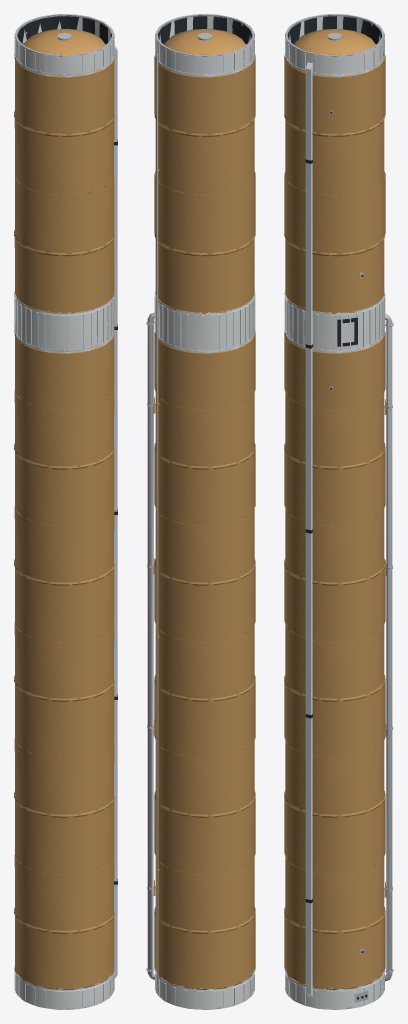
The model's file is tank_s1_l_hydrolox.glb.
The picture shows the model from 3 angles, left to right: view 1: azimuth 90°, elevation 25°; view 2: azimuth 150°, elevation 25°; view 3: azimuth 330°, elevation 25°; orthographic projection.
Parts seen in each view (by area): view 1: tank_s1_l_hydrolox_mesh; view 2: tank_s1_l_hydrolox_mesh; view 3: tank_s1_l_hydrolox_mesh.
Part boxes in pixels (bbox=[...]): tank_s1_l_hydrolox_mesh: bbox=[14, 14, 117, 1009]; tank_s1_l_hydrolox_mesh: bbox=[146, 14, 255, 1009]; tank_s1_l_hydrolox_mesh: bbox=[284, 14, 393, 1009].
Bounding box in the file's own units: 5.61 × 57.3 × 5.64.
